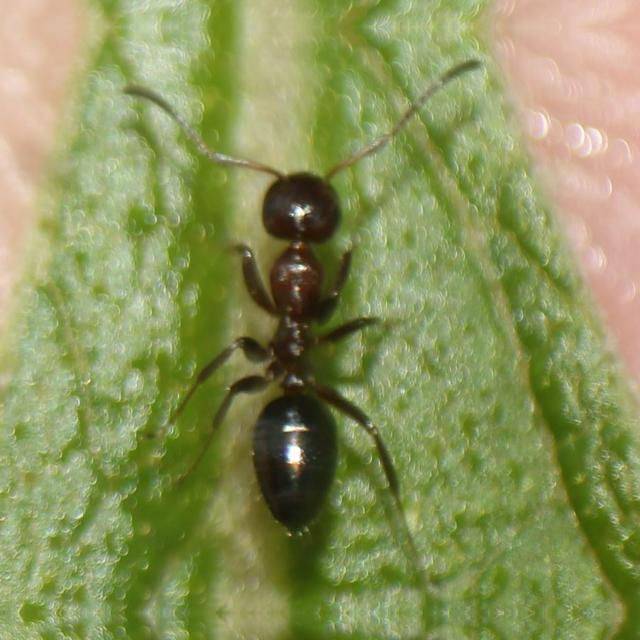Colobopsis: (176, 122, 394, 552)
